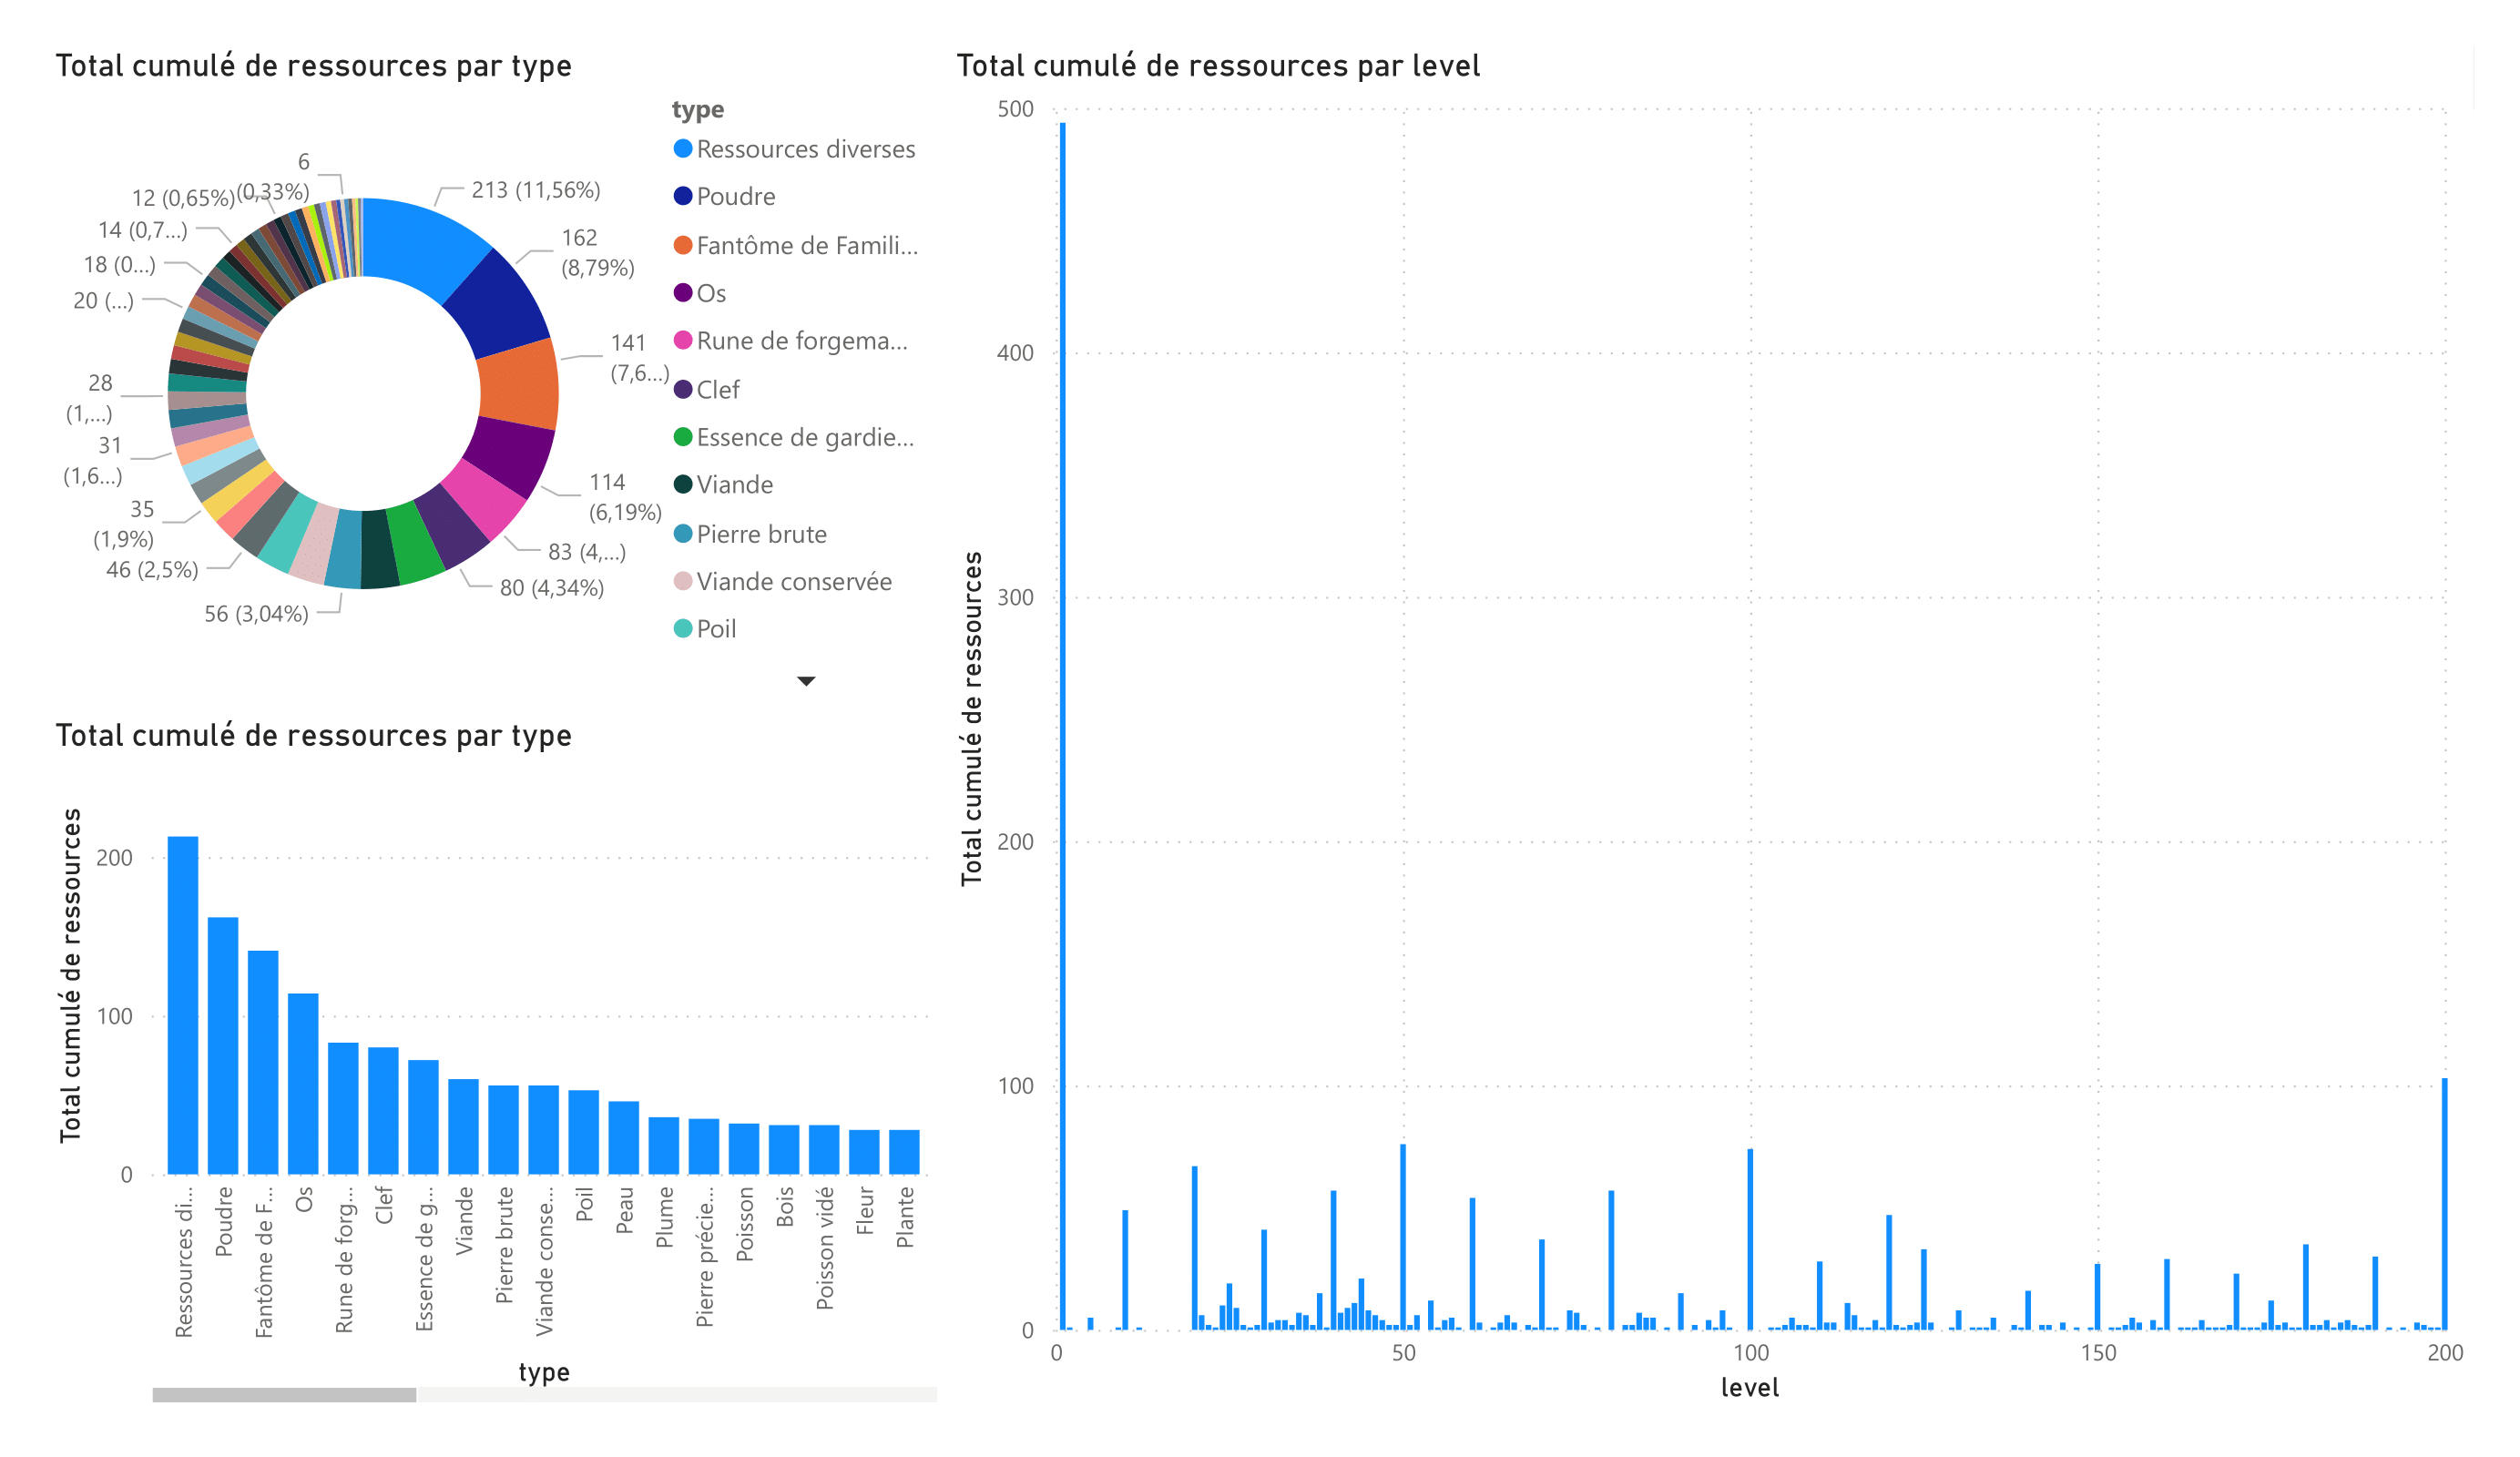

What the dashboard file says about the page in this screenshot:
{"tool":"powerbi","page":{"name":"Ressources","canvas":[1280,720],"ordinal":3},"visuals":[{"type":"donutChart","fields":{"Y":["ressources.Total cumulé de ressources"],"Category":["ressources.type"]},"box":[0,0,474.7,348],"z":0},{"type":"clusteredColumnChart","fields":{"Y":["ressources.Total cumulé de ressources"],"Category":["ressources.type"]},"box":[0,353.5,474.7,366.7],"z":1000},{"type":"clusteredColumnChart","fields":{"Y":["ressources.Total cumulé de ressources"],"Category":["ressources.level"]},"box":[474.7,0,805.3,720.2],"z":2000}]}

Visuals, with their boxes in screenshot pixels (x1, y1, x2, y2):
donutChart - ressources.Total cumulé de ressources x ressources.type: bbox=(46, 46, 946, 706)
clusteredColumnChart - ressources.Total cumulé de ressources x ressources.type: bbox=(46, 716, 946, 1411)
clusteredColumnChart - ressources.Total cumulé de ressources x ressources.level: bbox=(946, 46, 2474, 1411)
